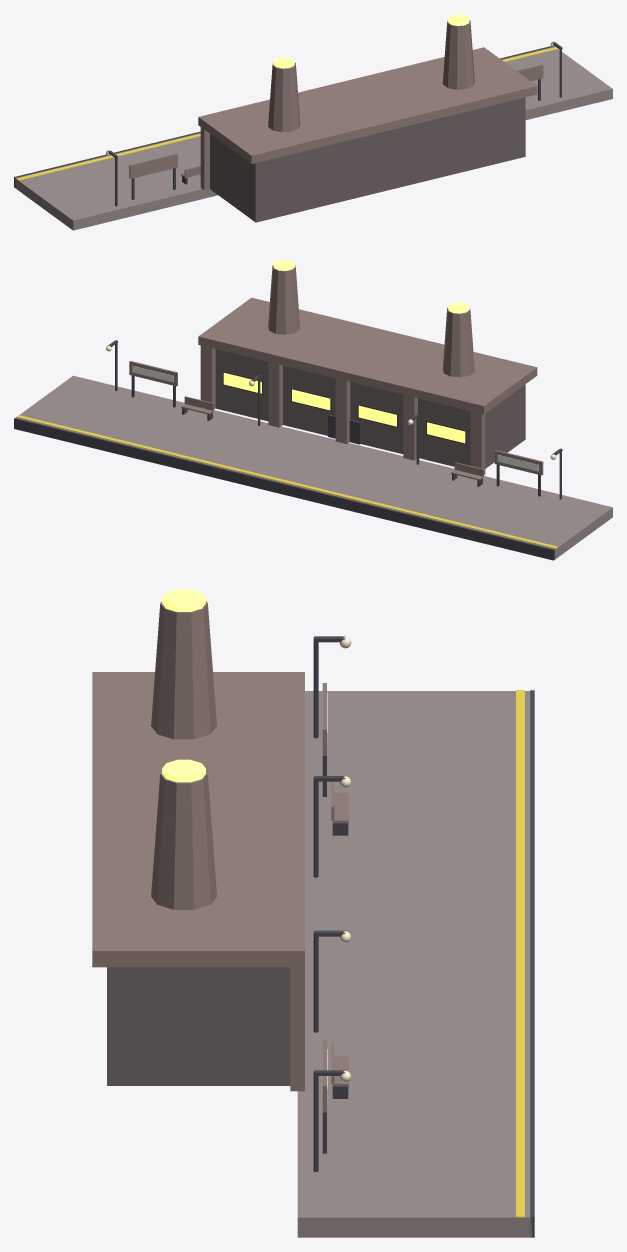
Rendered from Station_volcano.fbx.
The picture shows the model from 3 angles, top to bottom: view 1: azimuth 30°, elevation 25°; view 2: azimuth 150°, elevation 25°; view 3: azimuth 270°, elevation 25°; orthographic projection. The views are drawn at different scales.
Visible parts, largest first — view 1: Station_volcano; view 2: Station_volcano; view 3: Station_volcano.
Part boxes in pixels (x1=…): Station_volcano: x1=14, y1=14, x2=612, y2=230; Station_volcano: x1=14, y1=259, x2=612, y2=560; Station_volcano: x1=92, y1=589, x2=534, y2=1237.
Bounding box in the file's own units: 34 × 8.75 × 12.06.
